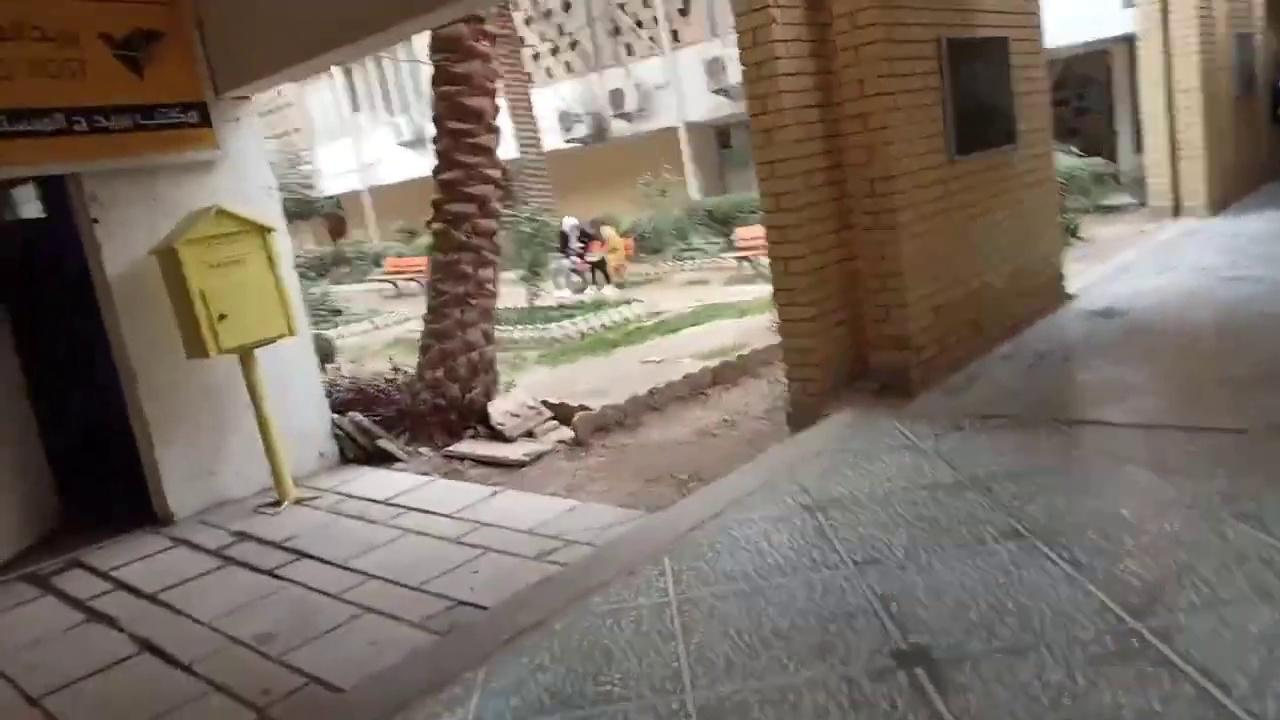person: (551, 215, 589, 296), (598, 222, 629, 289)
tree: (396, 14, 517, 446)
